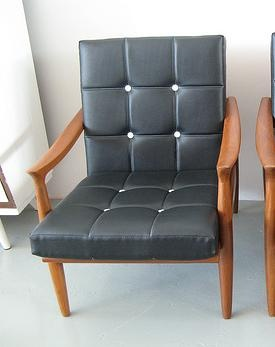obstacle: (29, 35, 239, 317)
